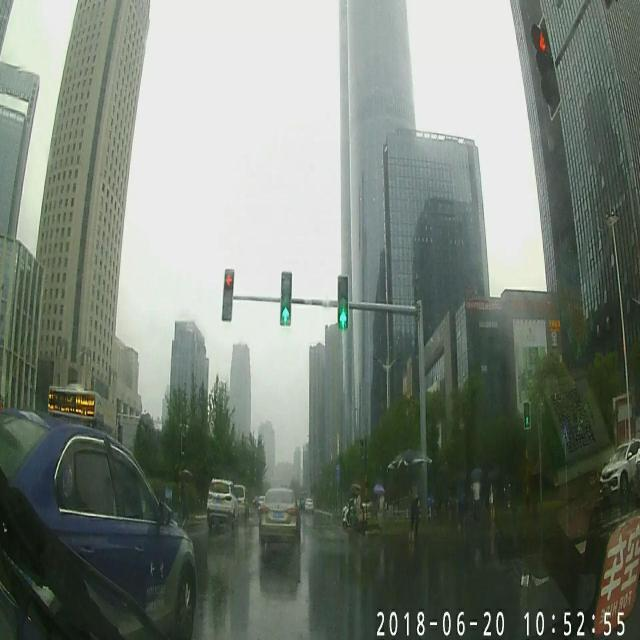car: (0, 408, 198, 635), (258, 486, 302, 556), (600, 430, 638, 503), (205, 476, 239, 528), (234, 480, 248, 524), (304, 496, 316, 512)
